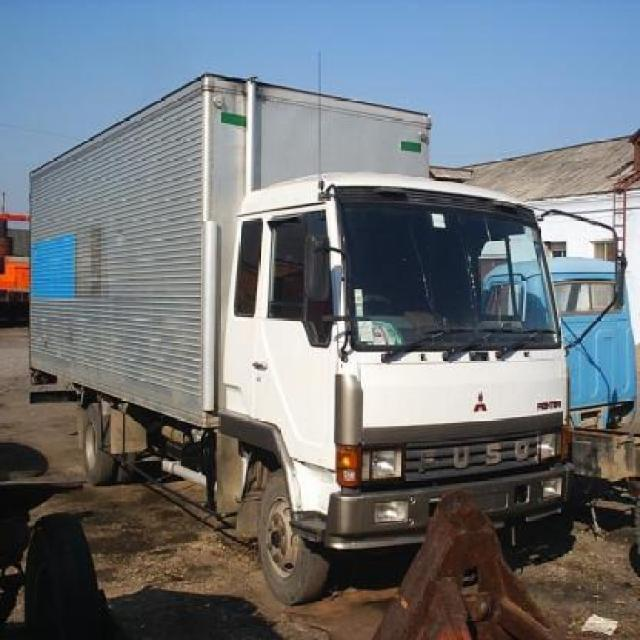truck: (29, 73, 578, 604)
